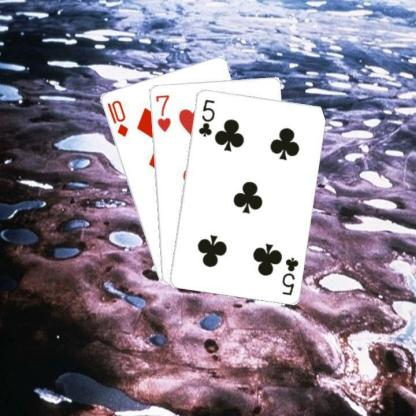10D: (104, 97, 129, 138)
5C: (279, 254, 300, 296), (196, 96, 215, 137)
7H: (152, 92, 172, 133)
